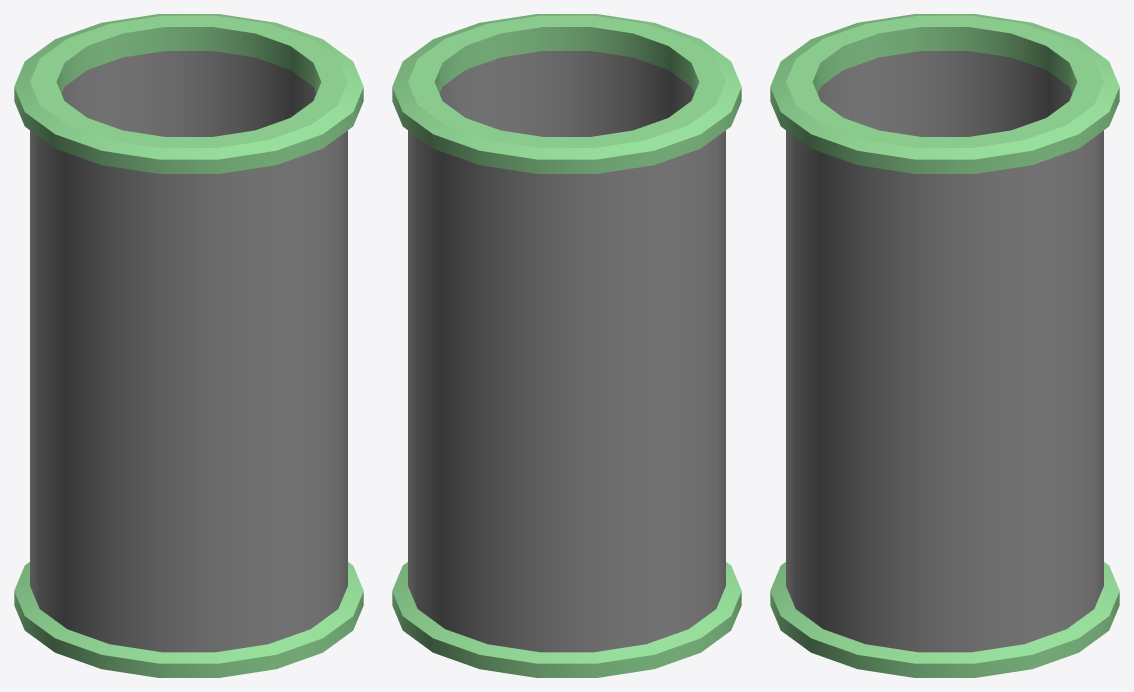
File: Entity_PipeStraight.FBX
3 renders of one model, left to right at view 1: azimuth 30°, elevation 25°; view 2: azimuth 150°, elevation 25°; view 3: azimuth 270°, elevation 25°, orthographic.
Visible parts, largest first — view 1: Tube001; view 2: Tube001; view 3: Tube001.
Part boxes in pixels (x1,y1,x2,y2): Tube001: [14, 14, 363, 677]; Tube001: [392, 14, 741, 677]; Tube001: [770, 14, 1119, 677].
Bounding box in the file's own units: 65 × 110 × 66.
